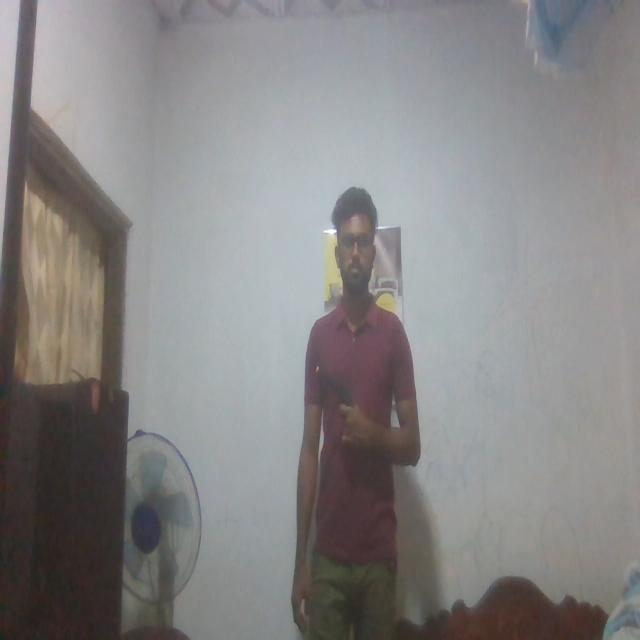Gun_Holder: (318, 362, 370, 452)
Person: (293, 184, 419, 640)
